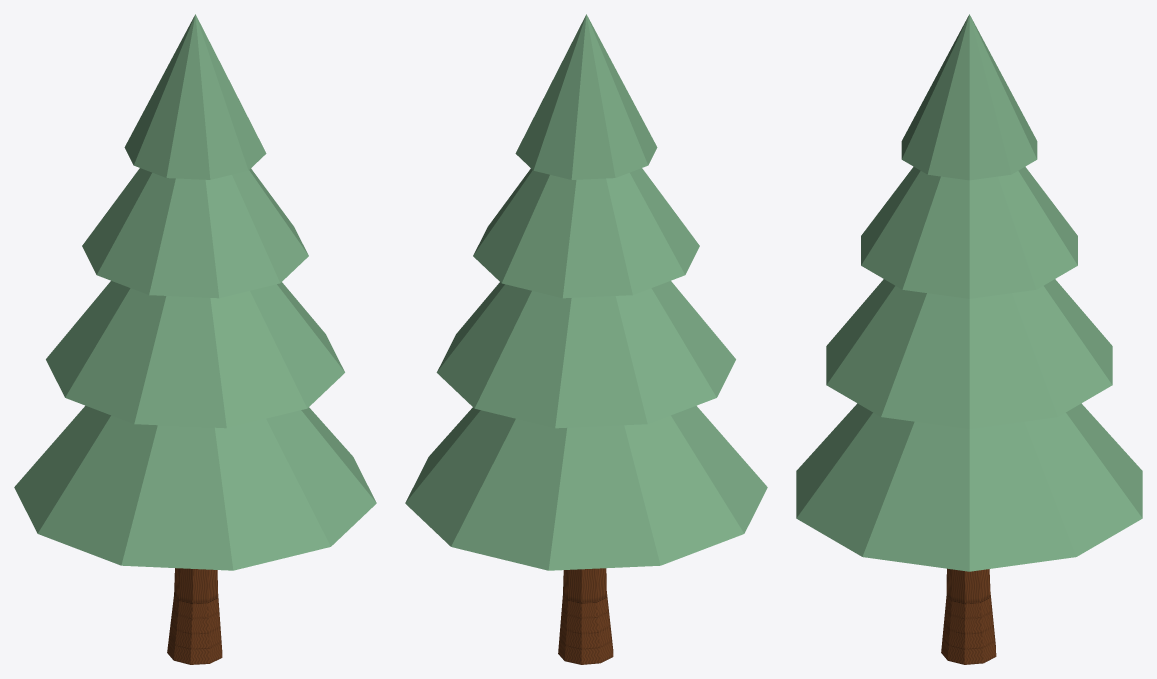
The model's file is stylized-pine-tree-tall.glb.
3 views of the same model, side by side, from view 1: azimuth 30°, elevation 25°; view 2: azimuth 150°, elevation 25°; view 3: azimuth 270°, elevation 25° (orthographic).
Visible parts, largest first — view 1: pine-columnar; view 2: pine-columnar; view 3: pine-columnar.
Part boxes in pixels (box(x1,y1,x2,y2)): pine-columnar: box(14, 14, 376, 664); pine-columnar: box(405, 14, 767, 664); pine-columnar: box(796, 14, 1142, 664).
Bounding box in the file's own units: 2.3 × 4.45 × 2.19.
Materials: 2 (1 with a texture image).
